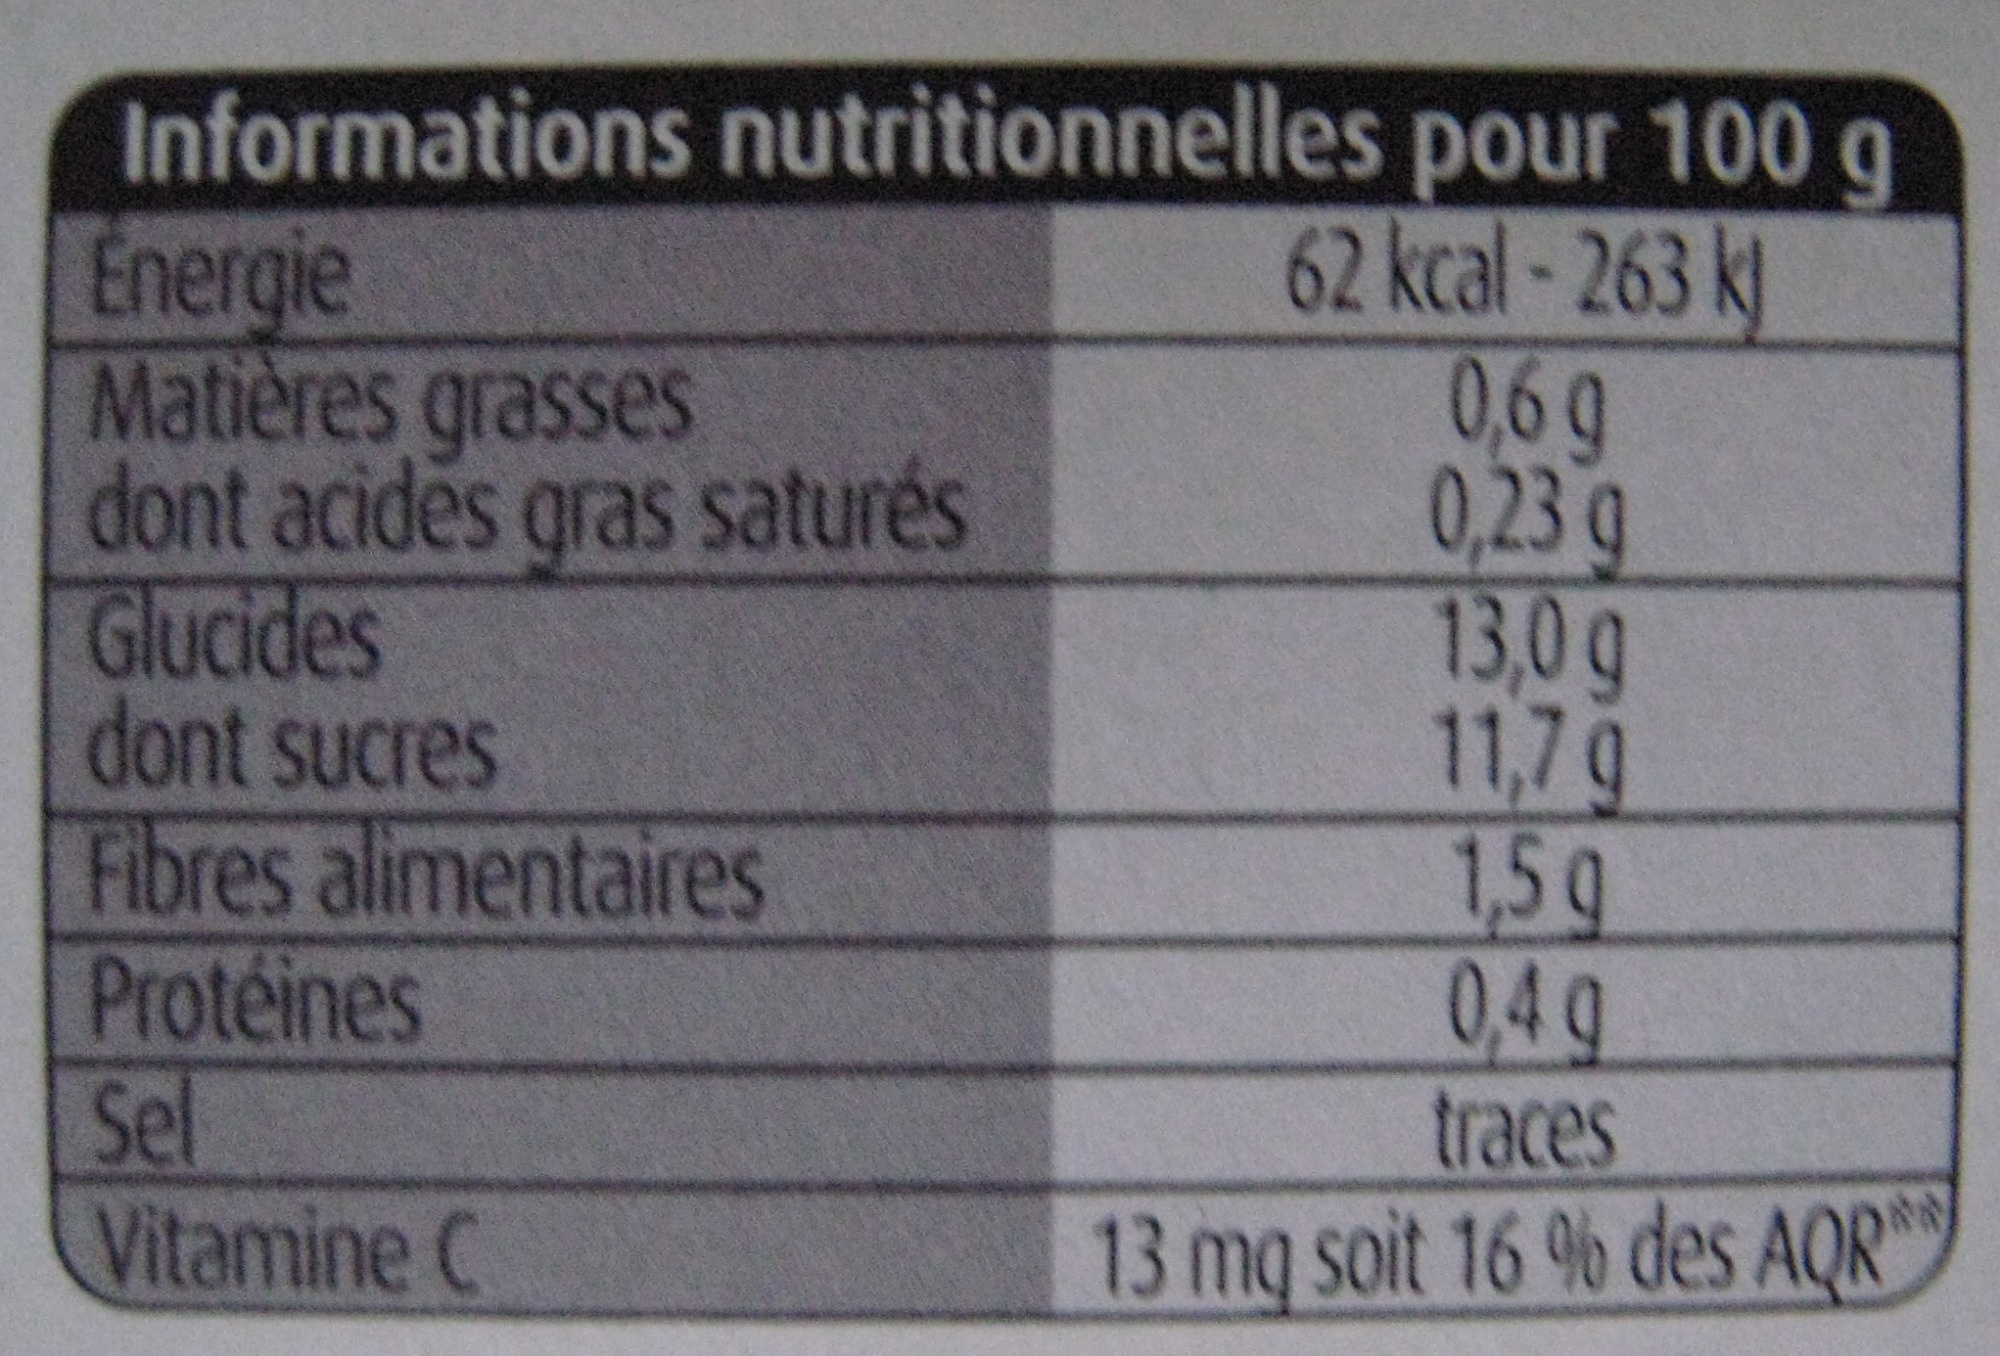column: (82, 207, 967, 1295), (1095, 210, 1943, 1305)
table: (39, 58, 1958, 1318)
